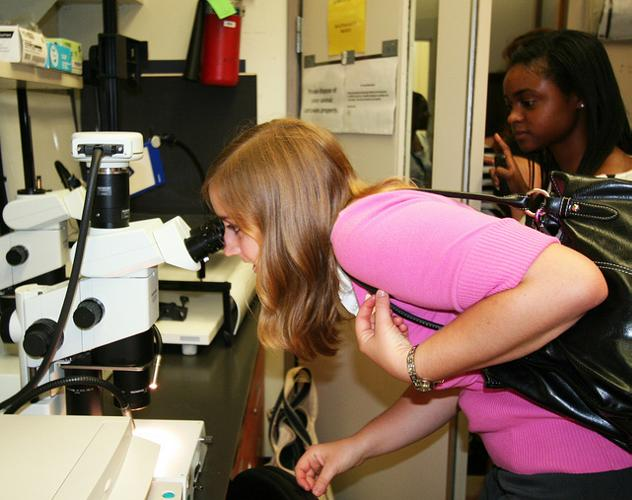person: (203, 119, 632, 498)
